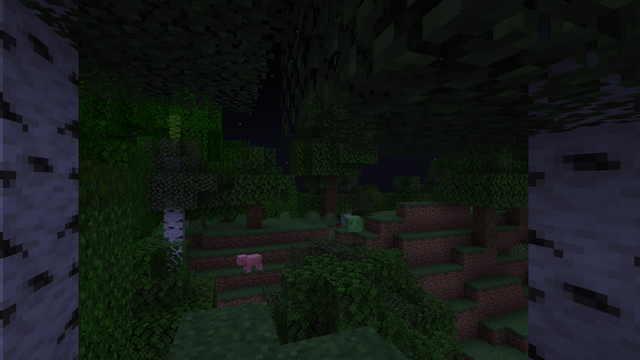cochons: (244, 253, 260, 273)
slimes: (343, 214, 362, 231)
